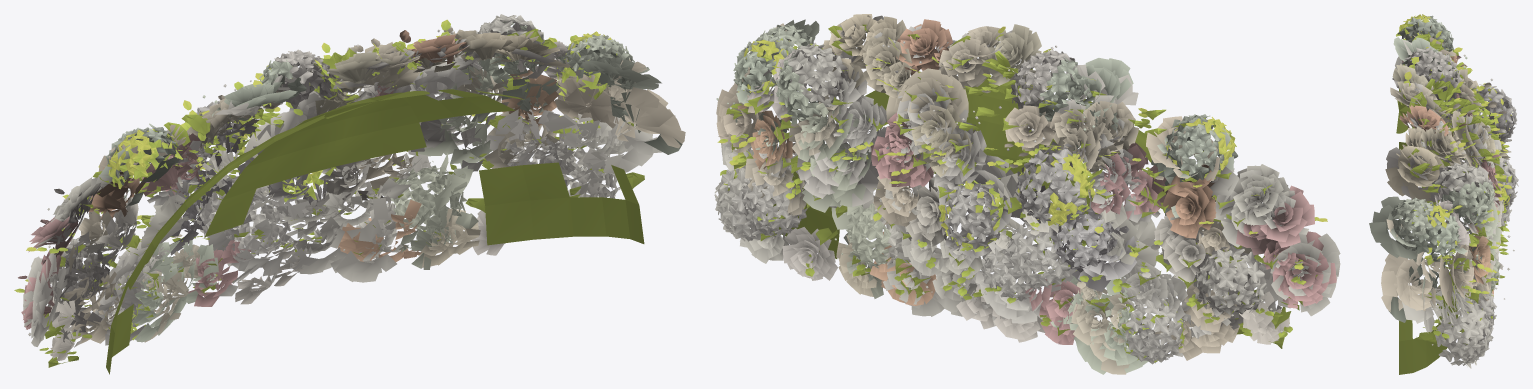
Rendered from vr27n_D_bank_bright_v12A.glb.
3 renders of one model, left to right at view 1: azimuth 30°, elevation 25°; view 2: azimuth 150°, elevation 25°; view 3: azimuth 270°, elevation 25°, orthographic. The views are drawn at different scales.
Parts seen in each view (by area): view 1: petals; view 2: petals; view 3: petals.
Boxes of the visible parts, bbox=[...] form: petals: bbox=[14, 14, 685, 374]; petals: bbox=[714, 14, 1340, 374]; petals: bbox=[1369, 14, 1518, 374].
Bounding box in the file's own units: 0.0235 × 0.0101 × 0.00602.
